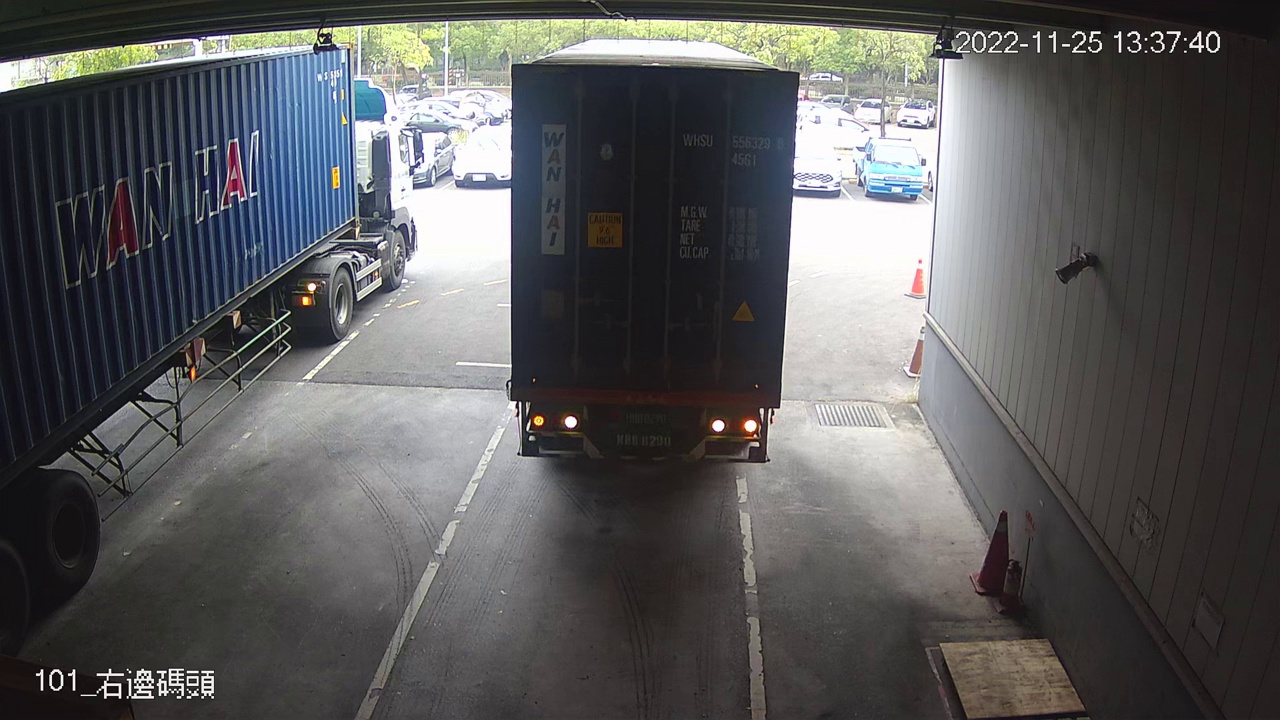container: (678, 125, 787, 174)
